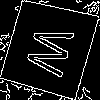W: (24, 23, 86, 81)
